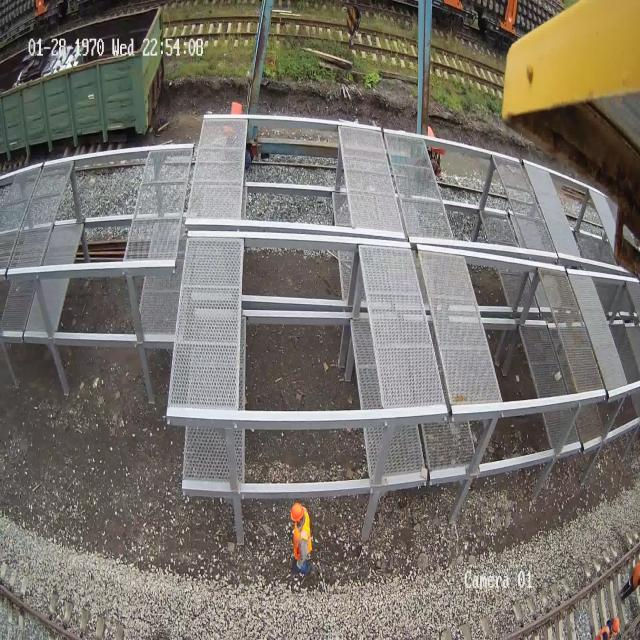Helmet: (290, 502, 304, 521), (609, 621, 623, 638)
Person: (290, 502, 312, 574), (622, 553, 640, 602)
